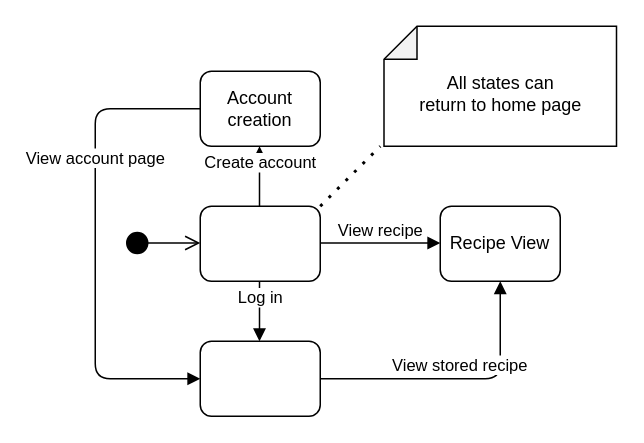
This 644x443 diagram has some shape labels left out. The shapes that lost their labels are listed below. From the top down, each one's box as (x1, y1, x2, y2) in pixels, then its label:
(199, 205, 320, 281): Home page
(199, 340, 320, 416): Account page
